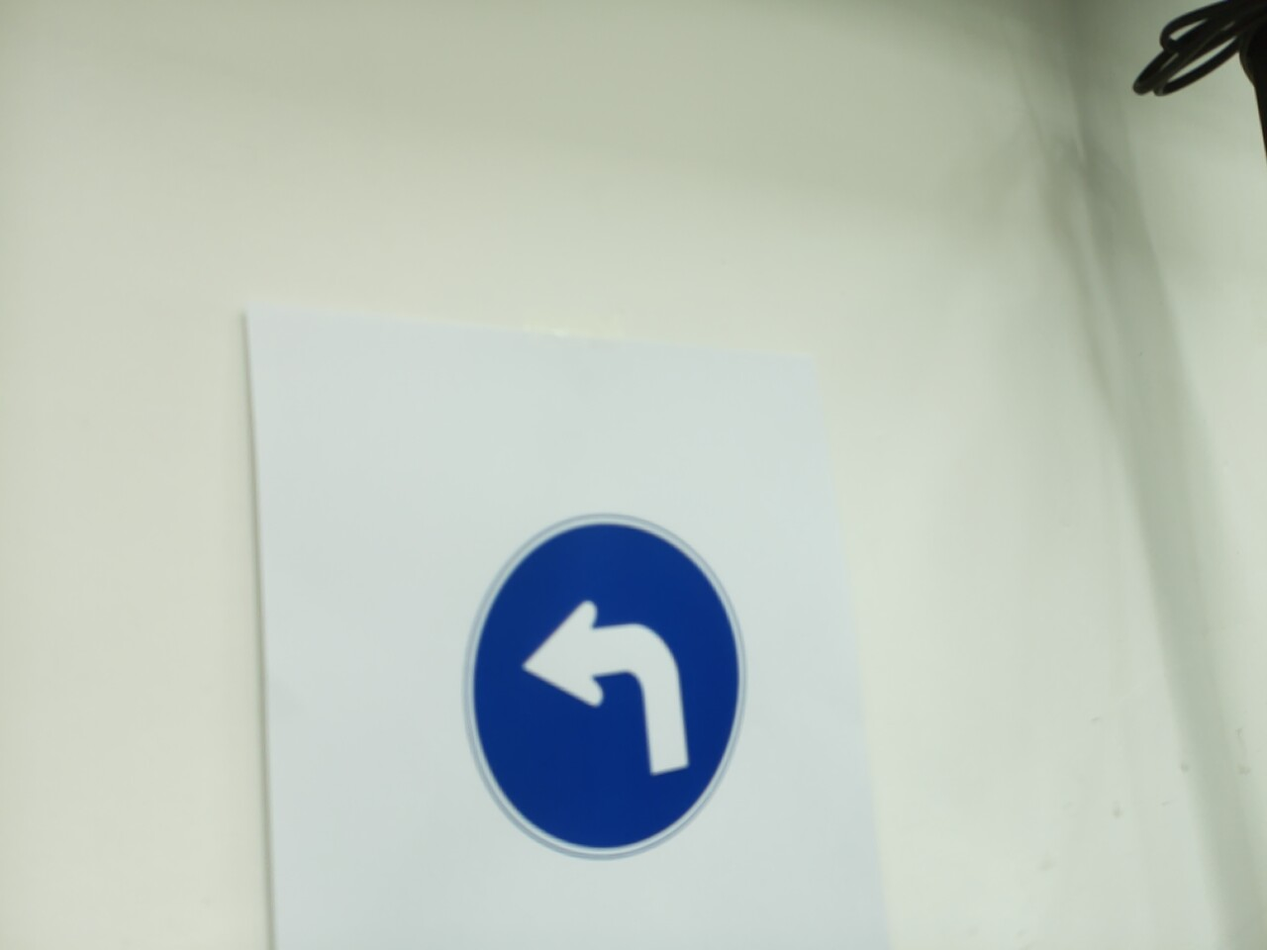left_turn: (464, 514, 748, 858)
